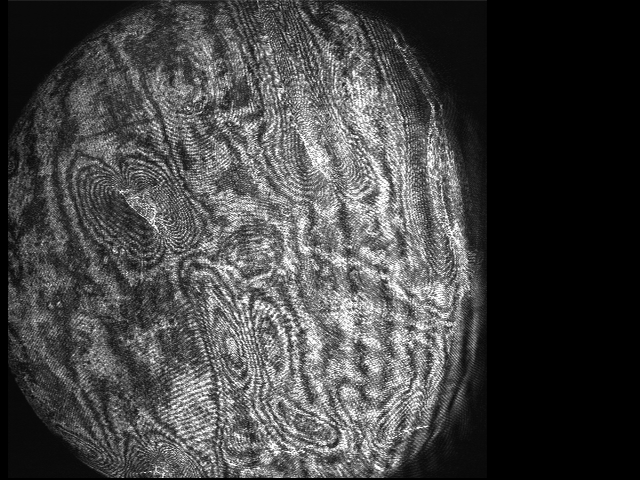plume: (77, 154, 195, 262)
